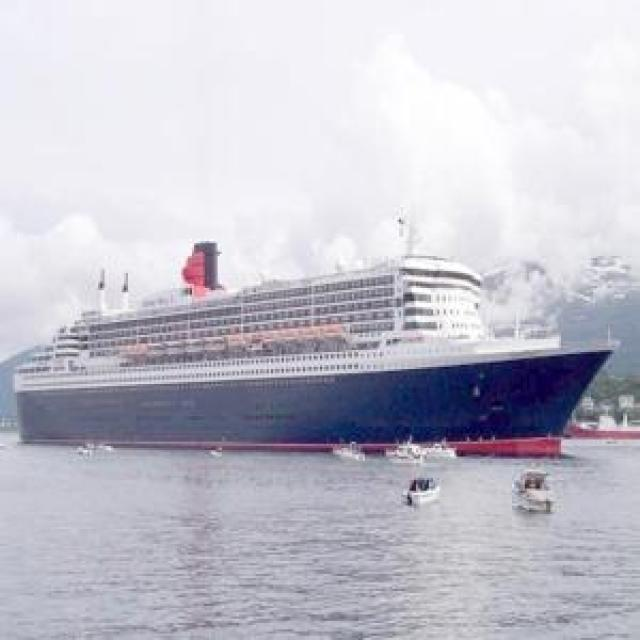houseboat: (512, 462, 560, 509), (403, 461, 438, 507), (414, 430, 457, 465), (380, 430, 421, 465), (328, 433, 364, 464), (70, 440, 121, 460)
passenger ship: (9, 218, 610, 456)
